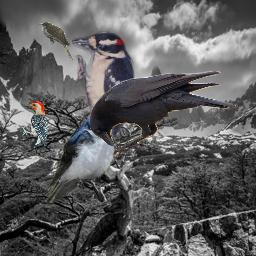Crow: (89, 71, 238, 158)
Cuckoo: (39, 22, 73, 61)
Swallow: (44, 114, 117, 204)
Woodpecker: (72, 29, 137, 177), (21, 101, 49, 149)
